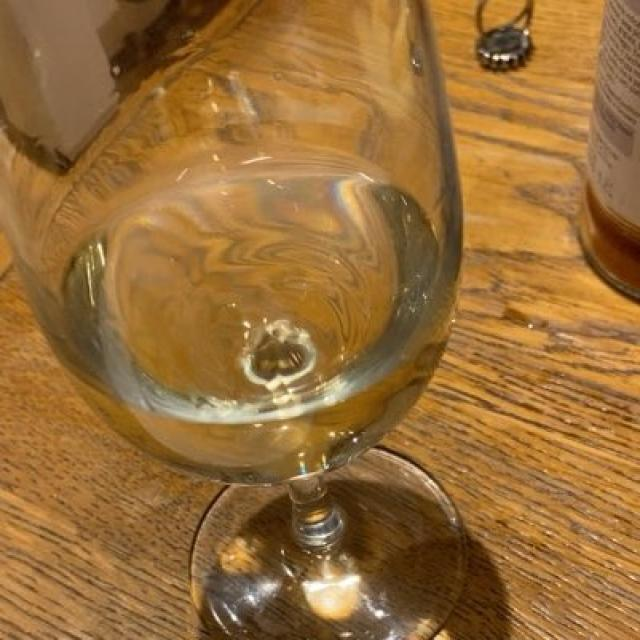wine: (76, 179, 468, 488)
